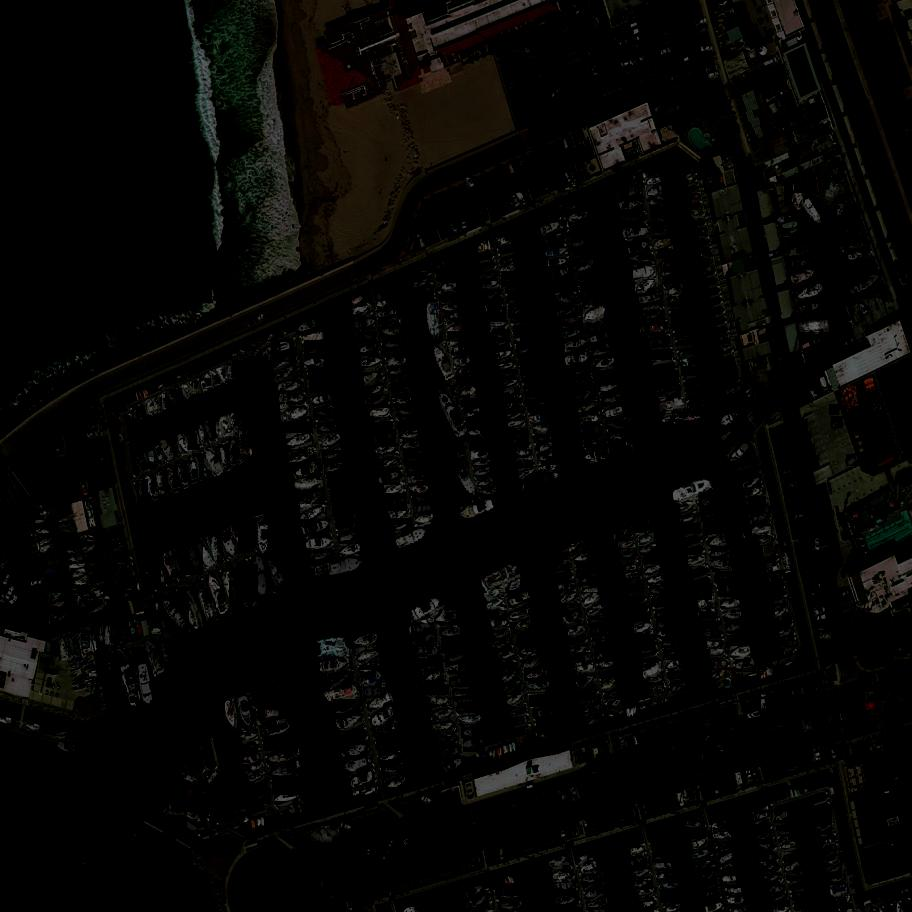large-vehicle: (507, 44, 533, 56), (846, 455, 861, 468), (763, 58, 778, 69)
ship: (435, 387, 472, 444), (112, 649, 144, 711), (170, 780, 214, 812), (479, 562, 522, 594), (135, 659, 159, 713), (168, 800, 209, 831), (158, 594, 191, 632), (430, 343, 459, 386), (673, 477, 717, 505), (315, 558, 368, 581), (206, 573, 231, 617), (177, 592, 203, 634), (848, 270, 884, 299), (550, 537, 587, 565), (234, 689, 258, 732), (453, 462, 480, 500), (263, 555, 290, 592), (395, 526, 433, 552), (143, 640, 169, 678), (459, 498, 498, 523), (411, 596, 447, 623), (821, 166, 845, 206), (614, 506, 649, 533), (194, 586, 218, 624), (216, 524, 241, 560), (237, 565, 260, 603), (317, 636, 351, 661), (210, 783, 231, 823), (181, 541, 205, 576), (800, 195, 826, 227), (250, 675, 284, 699), (260, 718, 297, 740), (193, 538, 218, 570), (728, 438, 754, 468), (291, 459, 322, 484), (254, 554, 270, 600), (261, 339, 294, 361), (340, 740, 371, 763), (279, 404, 311, 426), (148, 554, 168, 589), (162, 816, 191, 840), (296, 488, 326, 511), (258, 688, 288, 711), (258, 704, 294, 723), (524, 473, 555, 495), (273, 363, 302, 386), (203, 448, 226, 477), (341, 755, 374, 775), (336, 711, 365, 733), (229, 524, 251, 553), (270, 350, 297, 373), (718, 409, 746, 431), (262, 734, 296, 752), (222, 569, 240, 603), (300, 519, 332, 538), (287, 447, 317, 467), (173, 462, 193, 492), (163, 466, 183, 496), (796, 282, 826, 302), (320, 657, 353, 675), (654, 370, 681, 392), (160, 552, 179, 583), (366, 694, 394, 715), (370, 707, 396, 729), (272, 777, 302, 796), (333, 699, 363, 718), (177, 768, 204, 789), (142, 475, 161, 504), (361, 670, 386, 692), (193, 454, 214, 480), (258, 514, 271, 555), (329, 686, 360, 703), (413, 629, 438, 650), (301, 505, 327, 525), (350, 771, 377, 790), (733, 458, 760, 477), (464, 893, 491, 912), (356, 645, 380, 666), (658, 397, 686, 415), (445, 647, 470, 667), (378, 747, 404, 766), (274, 791, 303, 808), (286, 434, 313, 452), (328, 671, 355, 689), (791, 267, 818, 285), (428, 302, 441, 339), (268, 764, 298, 780), (267, 750, 299, 765), (636, 277, 660, 297), (216, 444, 233, 472), (583, 307, 608, 326), (507, 590, 532, 609), (410, 618, 436, 636), (351, 633, 380, 649), (441, 634, 464, 654), (574, 386, 597, 406), (423, 668, 446, 688), (436, 746, 463, 763), (462, 881, 486, 900), (443, 757, 467, 776), (373, 430, 398, 448), (595, 368, 620, 386), (617, 197, 645, 213), (68, 634, 85, 660), (303, 341, 326, 360), (319, 432, 343, 450), (570, 235, 594, 253), (564, 352, 591, 368), (543, 229, 565, 248), (570, 362, 592, 381), (376, 735, 402, 751), (388, 505, 411, 523), (385, 493, 408, 511), (513, 617, 536, 635), (324, 460, 348, 477), (297, 318, 321, 335), (385, 775, 409, 792), (550, 266, 574, 283), (539, 219, 563, 236), (160, 439, 177, 463), (210, 532, 223, 563), (799, 321, 830, 334), (633, 266, 658, 282), (628, 240, 653, 256), (89, 599, 110, 618), (698, 866, 719, 885), (699, 493, 720, 512), (378, 315, 400, 333), (403, 448, 425, 466), (322, 446, 344, 464), (608, 428, 630, 446), (564, 199, 586, 217), (693, 584, 715, 602), (510, 606, 533, 623), (725, 620, 748, 637), (549, 855, 572, 872), (177, 432, 194, 455), (586, 897, 612, 912), (306, 536, 333, 550), (308, 550, 335, 564), (794, 174, 812, 195), (447, 331, 468, 349), (576, 259, 597, 277), (508, 301, 529, 319), (525, 390, 546, 408), (516, 630, 537, 648), (594, 646, 615, 664), (579, 859, 600, 877), (640, 323, 669, 336), (838, 210, 863, 225), (544, 244, 569, 259), (727, 634, 752, 649), (597, 445, 631, 456), (582, 295, 604, 312), (501, 271, 523, 288), (573, 652, 595, 669), (524, 668, 546, 685), (583, 884, 605, 901), (226, 699, 238, 730), (338, 529, 361, 545), (591, 344, 614, 360), (54, 742, 77, 758), (656, 386, 682, 400), (62, 638, 76, 664), (363, 382, 387, 397), (245, 518, 257, 548), (739, 474, 763, 489), (462, 738, 486, 753), (501, 668, 521, 686), (330, 486, 351, 503), (573, 248, 594, 265), (522, 656, 543, 673), (718, 581, 739, 598), (384, 482, 406, 498), (175, 547, 186, 579), (557, 304, 579, 320), (520, 361, 542, 377), (576, 674, 598, 690), (389, 519, 414, 533), (672, 412, 707, 422), (786, 246, 811, 260), (187, 457, 199, 486), (379, 470, 402, 485), (310, 380, 333, 395), (698, 594, 717, 612), (463, 406, 483, 423), (516, 341, 536, 358), (579, 572, 599, 589), (613, 527, 633, 544), (691, 835, 711, 852), (704, 520, 724, 537), (333, 501, 354, 517), (304, 355, 328, 369), (365, 395, 389, 409), (563, 611, 584, 627), (575, 562, 596, 578), (586, 603, 607, 619), (643, 664, 664, 680), (431, 708, 455, 722), (701, 508, 722, 524), (219, 415, 235, 436), (388, 365, 410, 380), (598, 381, 620, 396), (553, 279, 575, 294), (589, 333, 611, 348), (240, 425, 250, 458), (328, 475, 353, 488), (79, 596, 98, 613), (749, 496, 768, 513), (638, 531, 657, 548), (436, 612, 459, 626), (577, 401, 600, 415), (622, 212, 645, 226), (594, 358, 617, 372), (561, 329, 584, 343), (84, 556, 104, 572), (375, 286, 395, 302), (500, 262, 520, 278), (536, 441, 556, 457), (505, 692, 525, 708), (416, 514, 437, 529), (312, 393, 333, 408), (412, 276, 433, 291), (634, 622, 655, 637), (503, 681, 524, 696), (652, 848, 673, 863), (278, 381, 304, 393), (353, 317, 377, 330), (637, 295, 663, 307), (628, 254, 654, 266), (714, 572, 738, 585), (284, 422, 312, 433), (382, 337, 404, 351), (731, 646, 753, 660), (555, 881, 577, 895), (634, 877, 656, 891), (666, 284, 685, 300), (488, 307, 507, 323), (584, 706, 603, 722), (583, 593, 602, 609), (601, 677, 620, 693), (719, 851, 738, 867), (814, 811, 833, 827), (165, 389, 180, 409), (251, 790, 271, 805), (654, 236, 674, 251), (459, 386, 479, 401), (552, 558, 572, 573), (632, 866, 652, 881), (307, 368, 330, 381), (360, 357, 383, 370), (602, 406, 625, 419), (564, 340, 587, 353), (137, 481, 148, 508), (844, 240, 871, 251), (340, 543, 361, 557), (399, 428, 420, 442), (240, 753, 261, 767), (660, 266, 681, 280), (751, 513, 772, 527), (636, 634, 657, 648), (209, 369, 225, 387), (799, 302, 823, 314), (495, 885, 519, 897), (401, 440, 423, 453), (567, 212, 589, 225), (579, 286, 601, 299), (735, 659, 757, 672), (250, 780, 269, 795), (518, 467, 537, 482), (756, 829, 775, 844), (784, 860, 803, 875), (830, 884, 849, 899), (295, 479, 323, 489), (157, 470, 167, 498), (408, 472, 428, 486), (359, 344, 379, 358), (52, 611, 72, 625), (485, 299, 505, 313), (559, 590, 579, 604), (566, 623, 586, 637), (485, 598, 505, 612), (692, 849, 712, 863), (660, 890, 680, 904), (707, 534, 727, 548), (230, 438, 240, 466), (448, 664, 471, 676), (529, 696, 552, 708), (416, 647, 441, 658), (536, 719, 557, 732), (279, 394, 306, 404), (71, 568, 89, 583), (647, 185, 665, 200), (507, 292, 525, 307), (506, 580, 524, 595), (631, 855, 649, 870), (651, 838, 669, 853), (823, 853, 841, 868), (114, 557, 133, 571), (446, 323, 465, 337), (539, 210, 558, 224), (518, 353, 537, 367), (644, 564, 663, 578), (712, 668, 731, 682), (359, 662, 383, 673), (439, 627, 461, 639), (834, 198, 846, 220), (433, 721, 455, 733), (720, 599, 742, 611), (380, 458, 400, 471), (671, 316, 691, 329), (657, 247, 677, 260), (623, 228, 649, 238), (508, 419, 528, 432), (503, 399, 523, 412), (498, 369, 518, 382), (474, 467, 494, 480), (541, 463, 561, 476), (499, 900, 525, 910), (570, 644, 590, 657), (663, 649, 683, 662), (232, 361, 247, 378), (802, 309, 819, 324), (656, 618, 673, 633), (218, 366, 232, 384), (82, 541, 100, 555), (233, 808, 254, 820), (248, 771, 266, 785), (601, 394, 622, 406), (586, 323, 607, 335), (581, 874, 602, 886), (640, 310, 665, 320), (507, 409, 526, 422), (493, 338, 512, 351), (491, 330, 510, 343), (639, 543, 658, 556), (576, 664, 595, 677), (678, 501, 697, 514), (624, 570, 643, 583), (574, 553, 593, 566), (695, 860, 714, 873), (711, 547, 730, 560), (412, 494, 434, 505), (376, 446, 398, 457), (582, 426, 604, 437), (462, 728, 484, 739), (357, 331, 377, 343), (164, 638, 172, 668), (122, 590, 142, 602), (616, 187, 640, 197), (207, 770, 222, 786), (552, 871, 572, 883), (418, 286, 435, 300), (725, 383, 743, 396), (484, 289, 502, 302), (352, 304, 370, 317), (525, 383, 543, 396), (670, 681, 688, 694), (690, 828, 708, 841), (127, 620, 138, 641), (492, 640, 513, 651), (698, 609, 719, 620), (204, 421, 215, 442), (583, 438, 606, 448), (553, 295, 576, 305), (528, 683, 551, 693), (147, 446, 157, 469), (406, 462, 425, 474), (745, 489, 764, 501), (501, 379, 520, 391), (496, 348, 515, 360), (436, 270, 455, 282), (638, 888, 657, 900), (688, 556, 707, 568), (680, 513, 699, 525), (316, 423, 338, 433), (793, 183, 803, 205), (472, 459, 492, 470), (577, 276, 597, 287), (573, 378, 593, 389), (657, 628, 677, 639), (497, 650, 517, 661), (681, 524, 701, 535), (110, 545, 128, 557), (478, 478, 496, 490), (443, 313, 461, 325), (816, 824, 834, 836), (364, 688, 385, 698), (40, 544, 55, 558), (649, 196, 664, 210), (452, 690, 473, 700), (556, 897, 577, 907), (198, 424, 208, 445), (652, 228, 671, 239), (470, 449, 489, 460), (632, 614, 651, 625), (457, 702, 476, 713), (763, 873, 782, 884), (767, 884, 786, 895), (769, 894, 788, 905), (155, 445, 166, 464), (113, 551, 129, 564), (39, 537, 55, 550), (687, 386, 703, 399), (650, 207, 666, 220), (775, 608, 791, 621), (779, 627, 795, 640), (60, 638, 68, 664), (626, 836, 642, 849), (110, 620, 119, 643), (75, 593, 92, 605), (47, 585, 64, 597), (434, 260, 451, 272), (758, 842, 775, 854), (189, 433, 201, 450), (390, 378, 410, 388), (373, 726, 398, 734), (557, 581, 577, 591), (424, 686, 449, 694), (682, 366, 700, 377), (457, 377, 475, 388), (588, 617, 606, 628), (780, 842, 798, 853), (690, 396, 705, 409), (768, 571, 783, 584), (353, 294, 368, 307), (182, 384, 194, 400), (51, 598, 67, 610), (469, 439, 485, 451), (466, 419, 482, 431), (662, 640, 678, 652), (240, 734, 259, 744), (479, 271, 498, 281), (570, 227, 589, 237), (651, 598, 670, 608), (625, 583, 644, 593), (391, 388, 412, 397), (106, 656, 115, 677), (380, 329, 401, 338), (648, 337, 669, 346), (605, 420, 626, 429), (364, 373, 381, 384), (847, 253, 864, 264), (537, 454, 554, 465), (592, 639, 609, 650), (713, 832, 730, 843), (753, 811, 770, 822), (648, 351, 671, 359), (459, 716, 482, 724), (370, 408, 390, 417), (752, 527, 772, 536), (440, 283, 458, 293), (512, 326, 530, 336), (528, 404, 546, 414), (450, 678, 470, 687), (666, 659, 681, 671), (538, 732, 556, 742), (491, 620, 509, 630), (519, 648, 539, 657), (654, 863, 674, 872), (759, 852, 777, 862), (656, 872, 674, 882), (826, 866, 844, 876), (314, 409, 336, 417), (35, 527, 51, 538), (770, 591, 786, 602), (712, 822, 728, 833), (774, 814, 790, 825), (132, 407, 141, 426), (373, 422, 392, 431), (509, 431, 528, 440), (548, 258, 567, 267), (488, 610, 507, 619), (378, 309, 395, 319), (376, 299, 393, 309), (515, 449, 532, 459), (824, 844, 837, 857), (98, 626, 106, 647), (421, 660, 442, 668), (576, 852, 590, 864), (633, 604, 647, 616), (46, 579, 61, 590), (760, 536, 775, 547), (398, 408, 416, 417), (118, 579, 136, 588), (505, 286, 523, 295), (649, 587, 667, 596), (563, 603, 581, 612), (581, 587, 599, 596), (726, 887, 744, 896), (725, 611, 743, 620), (382, 766, 405, 773), (67, 549, 83, 559), (243, 744, 259, 754), (40, 553, 56, 563), (645, 178, 661, 188), (563, 317, 583, 325), (531, 425, 551, 433), (26, 722, 42, 732), (794, 901, 810, 911), (630, 847, 646, 857), (834, 894, 847, 906), (669, 297, 683, 308), (69, 563, 86, 572), (533, 709, 550, 718), (493, 631, 510, 640), (829, 876, 846, 885), (395, 398, 414, 406), (385, 350, 404, 358), (490, 321, 509, 329), (514, 336, 533, 344), (83, 635, 91, 654), (711, 561, 730, 569), (289, 806, 304, 816), (49, 592, 64, 602), (648, 576, 663, 586), (713, 661, 728, 671), (386, 359, 407, 366), (173, 435, 180, 456), (335, 518, 353, 526), (414, 506, 432, 514), (398, 421, 416, 429), (246, 764, 262, 773), (441, 304, 459, 312), (454, 357, 472, 365), (530, 415, 546, 424), (685, 820, 703, 828), (723, 876, 739, 885), (727, 896, 745, 904), (710, 650, 726, 659), (702, 622, 720, 630), (516, 439, 530, 449), (430, 698, 450, 705), (785, 183, 791, 206), (664, 279, 681, 287), (590, 628, 607, 636), (410, 485, 429, 492), (581, 698, 600, 705), (253, 350, 265, 361), (724, 863, 737, 873), (117, 566, 133, 574), (147, 399, 154, 417), (162, 393, 169, 411), (105, 626, 111, 647), (43, 560, 57, 569), (781, 229, 799, 236), (500, 663, 518, 670), (267, 333, 278, 344), (792, 259, 807, 267), (769, 582, 784, 590), (774, 600, 789, 608), (766, 861, 778, 871), (131, 459, 141, 471), (484, 591, 501, 598), (441, 737, 458, 744), (508, 705, 525, 712), (660, 884, 677, 891), (216, 422, 223, 439), (718, 336, 731, 345), (479, 490, 498, 496), (618, 553, 637, 559), (668, 673, 687, 679), (786, 873, 805, 879), (66, 542, 80, 550), (443, 293, 457, 301), (648, 678, 664, 685), (598, 662, 614, 669), (323, 693, 332, 705), (57, 731, 69, 740), (703, 267, 715, 276), (617, 542, 635, 548), (638, 649, 656, 655), (51, 607, 66, 614), (484, 281, 499, 288), (534, 436, 549, 443), (691, 210, 704, 218), (653, 218, 666, 226), (155, 398, 161, 415), (184, 370, 194, 380), (839, 852, 848, 863), (654, 832, 665, 841), (611, 701, 622, 710), (518, 461, 532, 468), (511, 316, 525, 323), (702, 883, 716, 890), (68, 558, 84, 564), (782, 835, 794, 843), (651, 688, 663, 696), (608, 692, 620, 700), (704, 631, 720, 637), (675, 693, 688, 700), (793, 892, 808, 898), (62, 528, 76, 534), (119, 434, 126, 446), (708, 642, 720, 649), (782, 641, 798, 646), (705, 891, 715, 899), (174, 375, 184, 383), (691, 194, 701, 202), (697, 228, 708, 235), (229, 365, 234, 380), (91, 582, 106, 587), (777, 826, 792, 831), (678, 340, 690, 346), (46, 568, 56, 575), (722, 346, 732, 353), (141, 462, 148, 472), (151, 628, 161, 635), (584, 689, 594, 696), (644, 558, 658, 563), (232, 414, 236, 430), (207, 374, 211, 389), (193, 381, 197, 396), (32, 515, 42, 521), (700, 249, 711, 254), (470, 431, 481, 436), (294, 762, 300, 771), (849, 876, 854, 886), (840, 841, 845, 851), (34, 520, 44, 525), (482, 254, 492, 259), (660, 611, 668, 617), (816, 794, 824, 800), (477, 753, 486, 758), (240, 356, 249, 361), (250, 343, 258, 348), (278, 331, 284, 337), (256, 341, 265, 345), (619, 179, 624, 186), (238, 349, 244, 354)
small-vehicle: (561, 135, 574, 153), (807, 383, 821, 399), (414, 233, 427, 250), (263, 842, 280, 855), (788, 754, 801, 771), (860, 649, 873, 666), (395, 831, 408, 847), (715, 743, 728, 759), (36, 441, 48, 458), (339, 821, 357, 832), (667, 72, 681, 86), (624, 65, 638, 79), (670, 34, 685, 47), (549, 88, 564, 101), (562, 170, 575, 185), (310, 830, 325, 843), (511, 193, 523, 209), (388, 834, 400, 850), (712, 708, 724, 724), (448, 221, 461, 235), (252, 312, 266, 325), (8, 595, 21, 609), (838, 588, 853, 600), (785, 480, 800, 492), (859, 300, 871, 315), (321, 827, 333, 842), (819, 18, 830, 34), (820, 377, 831, 393), (366, 842, 377, 858), (804, 680, 815, 696), (872, 645, 883, 661), (831, 416, 844, 429), (540, 180, 552, 194), (505, 194, 517, 208), (85, 402, 99, 414), (374, 853, 386, 867), (420, 795, 435, 806), (802, 718, 813, 733), (892, 766, 903, 781), (746, 709, 761, 720), (547, 795, 558, 810), (569, 788, 580, 803), (6, 587, 16, 603), (2, 573, 12, 589), (794, 684, 804, 700), (829, 745, 839, 761), (868, 648, 878, 664), (36, 596, 49, 608), (659, 39, 672, 51), (828, 404, 841, 416), (466, 178, 478, 191), (30, 571, 43, 583), (561, 34, 574, 46), (688, 3, 702, 14), (814, 382, 825, 396), (382, 851, 393, 865), (811, 679, 822, 693), (666, 758, 677, 772), (725, 704, 734, 721), (80, 482, 90, 497), (327, 827, 342, 837), (619, 736, 629, 751), (517, 155, 526, 171), (686, 717, 695, 733), (33, 585, 46, 596), (0, 557, 10, 571), (413, 826, 421, 843), (399, 875, 411, 886), (844, 337, 857, 347), (415, 870, 428, 880), (813, 748, 821, 764), (571, 66, 585, 75), (708, 70, 720, 80), (665, 60, 677, 70), (616, 40, 628, 50), (811, 588, 823, 598), (790, 499, 802, 509), (88, 424, 100, 434), (318, 875, 326, 890), (31, 578, 43, 588), (902, 732, 910, 747), (869, 739, 877, 754), (560, 792, 568, 807), (631, 765, 639, 780), (621, 61, 634, 70), (587, 64, 600, 73), (694, 18, 707, 27), (87, 431, 100, 440), (57, 489, 65, 503), (25, 559, 39, 567), (801, 682, 808, 698), (897, 640, 905, 654), (573, 5, 583, 16), (584, 51, 595, 61), (617, 47, 629, 56), (612, 28, 624, 37), (814, 607, 826, 616), (701, 46, 714, 54), (565, 791, 573, 804), (762, 694, 768, 711), (662, 48, 673, 57), (683, 789, 690, 803), (37, 608, 49, 616), (589, 71, 601, 79), (819, 626, 831, 634), (820, 632, 832, 640), (872, 771, 878, 787), (704, 712, 710, 728), (652, 22, 665, 29), (462, 215, 468, 230), (791, 685, 797, 700), (620, 55, 631, 63), (613, 35, 624, 43), (785, 470, 797, 477), (496, 165, 502, 179), (826, 711, 832, 725), (730, 740, 736, 754), (661, 723, 667, 737), (753, 733, 758, 749), (704, 59, 717, 65), (707, 65, 718, 72), (823, 511, 834, 518), (406, 830, 411, 845), (880, 642, 885, 657), (60, 430, 69, 438), (864, 743, 870, 755), (799, 540, 809, 547), (850, 618, 855, 632), (605, 813, 610, 827), (573, 73, 584, 79), (88, 410, 99, 416), (499, 847, 504, 860), (58, 470, 67, 477), (817, 615, 827, 621), (29, 565, 39, 571), (588, 818, 593, 830), (810, 582, 818, 589), (566, 824, 571, 835), (795, 515, 804, 521), (816, 538, 820, 551), (644, 802, 648, 815), (826, 530, 836, 535), (556, 795, 560, 806), (616, 810, 619, 823), (810, 576, 816, 582), (561, 827, 564, 839), (572, 825, 575, 837), (856, 618, 859, 629), (694, 715, 696, 727)
